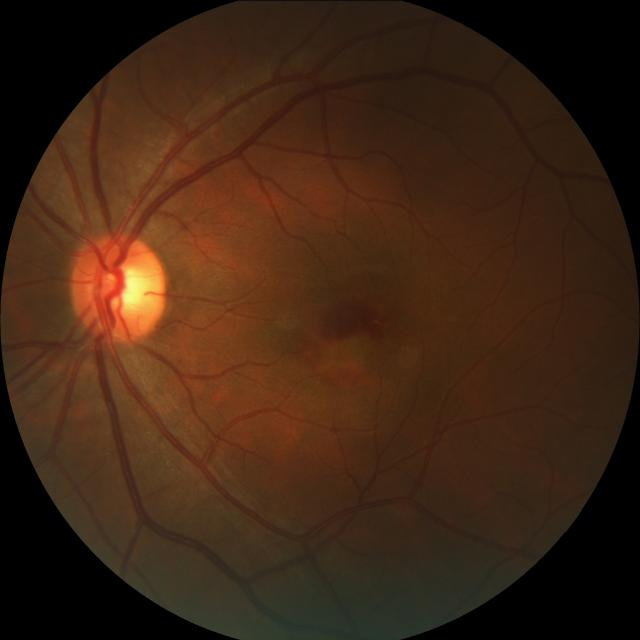OC: (100, 267, 146, 312)
OD: (68, 232, 163, 342)
